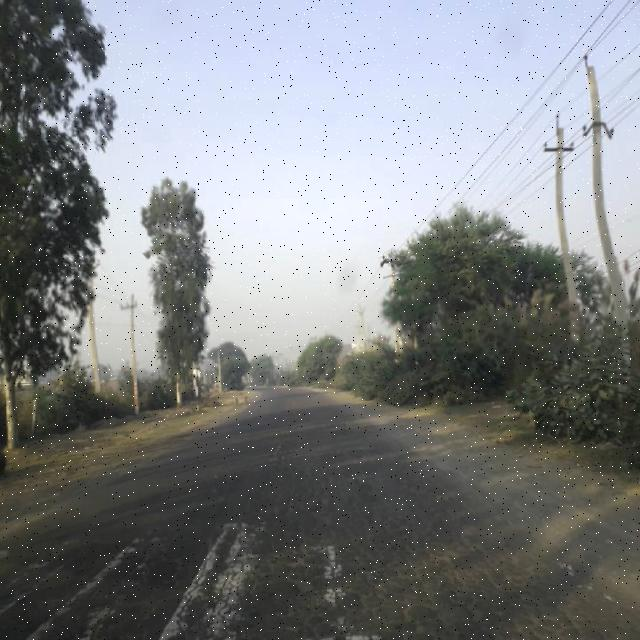D20: (1, 469, 640, 639)
D43: (1, 510, 547, 639)
